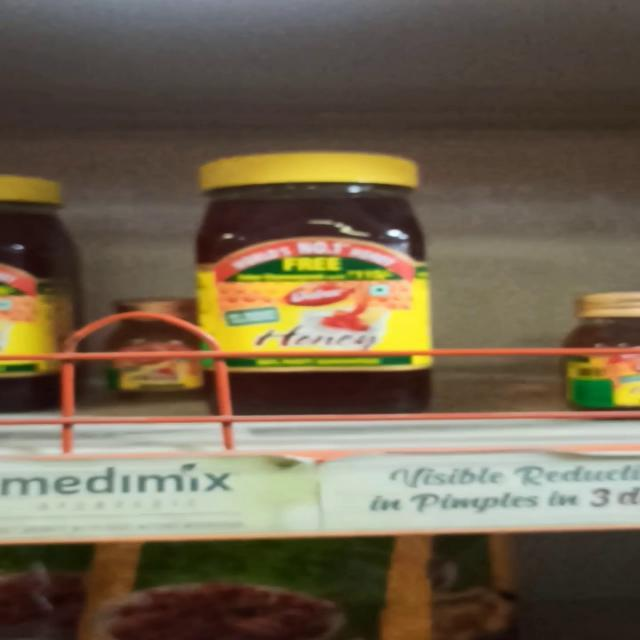Dabur Honey: (190, 144, 450, 418)
